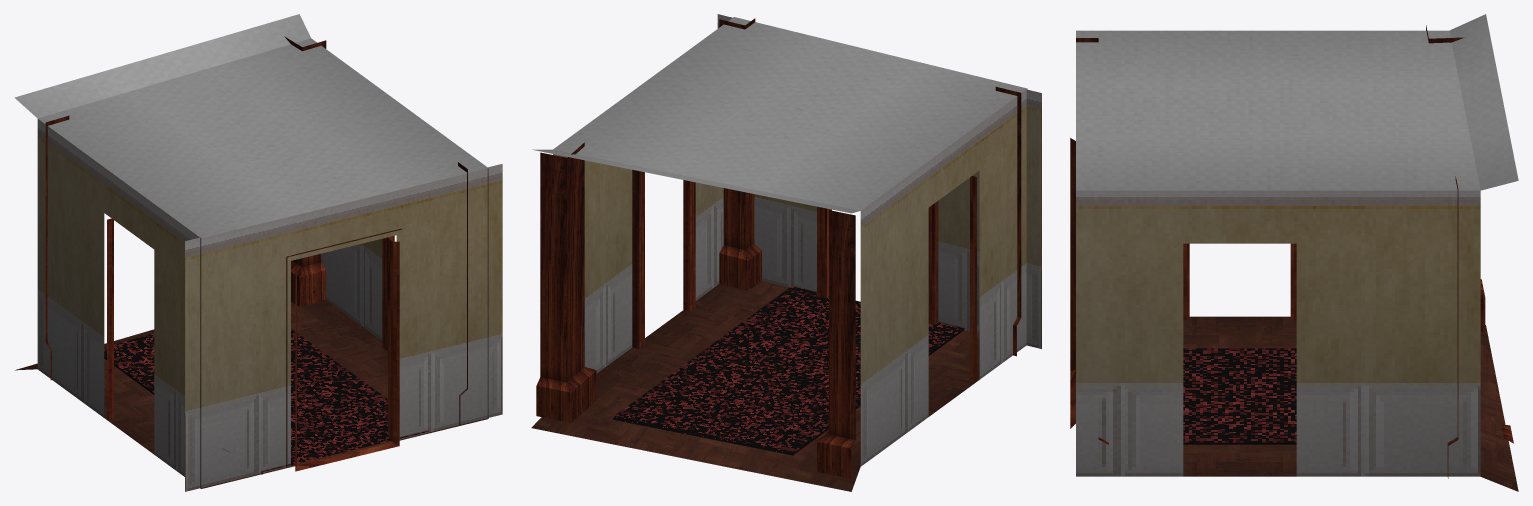
File: hallway_entrance.glb
3 views of the same model, side by side, from view 1: azimuth 30°, elevation 25°; view 2: azimuth 150°, elevation 25°; view 3: azimuth 270°, elevation 25° (orthographic). The views are drawn at different scales.
Visible parts, largest first — view 1: entrance, entrance door, entrance carpet, pillars; view 2: entrance, entrance carpet, pillars, entrance door, entrance pillars; view 3: entrance, entrance carpet, entrance door, pillars.
Part boxes in pixels (x1=…): entrance: x1=14, y1=14, x2=488, y2=488; entrance door: x1=185, y1=164, x2=502, y2=491; entrance carpet: x1=104, y1=328, x2=430, y2=474; pillars: x1=45, y1=36, x2=326, y2=379; entrance: x1=531, y1=17, x2=1027, y2=491; entrance carpet: x1=613, y1=286, x2=964, y2=455; pillars: x1=536, y1=142, x2=855, y2=478; entrance door: x1=717, y1=14, x2=1041, y2=348; entrance pillars: x1=719, y1=18, x2=1021, y2=356; entrance: x1=1076, y1=14, x2=1518, y2=491; entrance carpet: x1=1183, y1=348, x2=1296, y2=444; entrance door: x1=1070, y1=138, x2=1075, y2=428; pillars: x1=1426, y1=25, x2=1513, y2=478.
Bounding box in the file's own units: 3.31 × 2.72 × 3.55.
7 materials, 7 textured.
